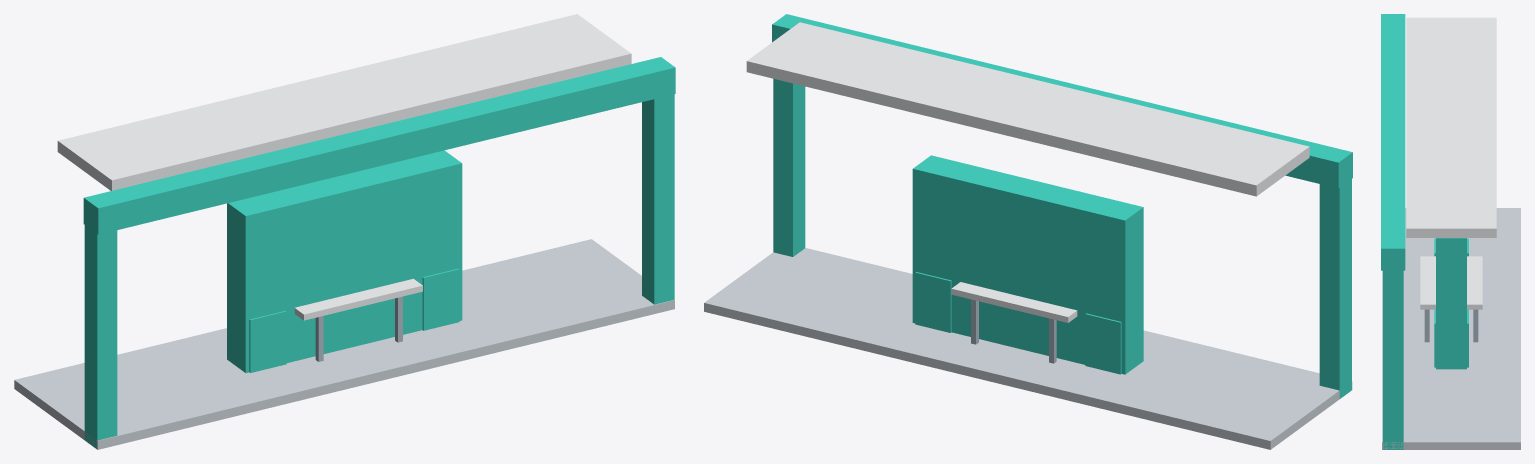
The picture shows the model from 3 angles, left to right: view 1: azimuth 30°, elevation 25°; view 2: azimuth 150°, elevation 25°; view 3: azimuth 270°, elevation 25°; orthographic projection. The views are drawn at different scales.
Visible parts, largest first — view 1: Exhibition Booth Concept; view 2: Exhibition Booth Concept; view 3: Exhibition Booth Concept.
Boxes of the visible parts, x1=… form: Exhibition Booth Concept: x1=14, y1=14, x2=675, y2=449; Exhibition Booth Concept: x1=704, y1=14, x2=1352, y2=449; Exhibition Booth Concept: x1=1381, y1=14, x2=1520, y2=449.
Size of the model in its own units: 8 by 3.34 by 2.01.
